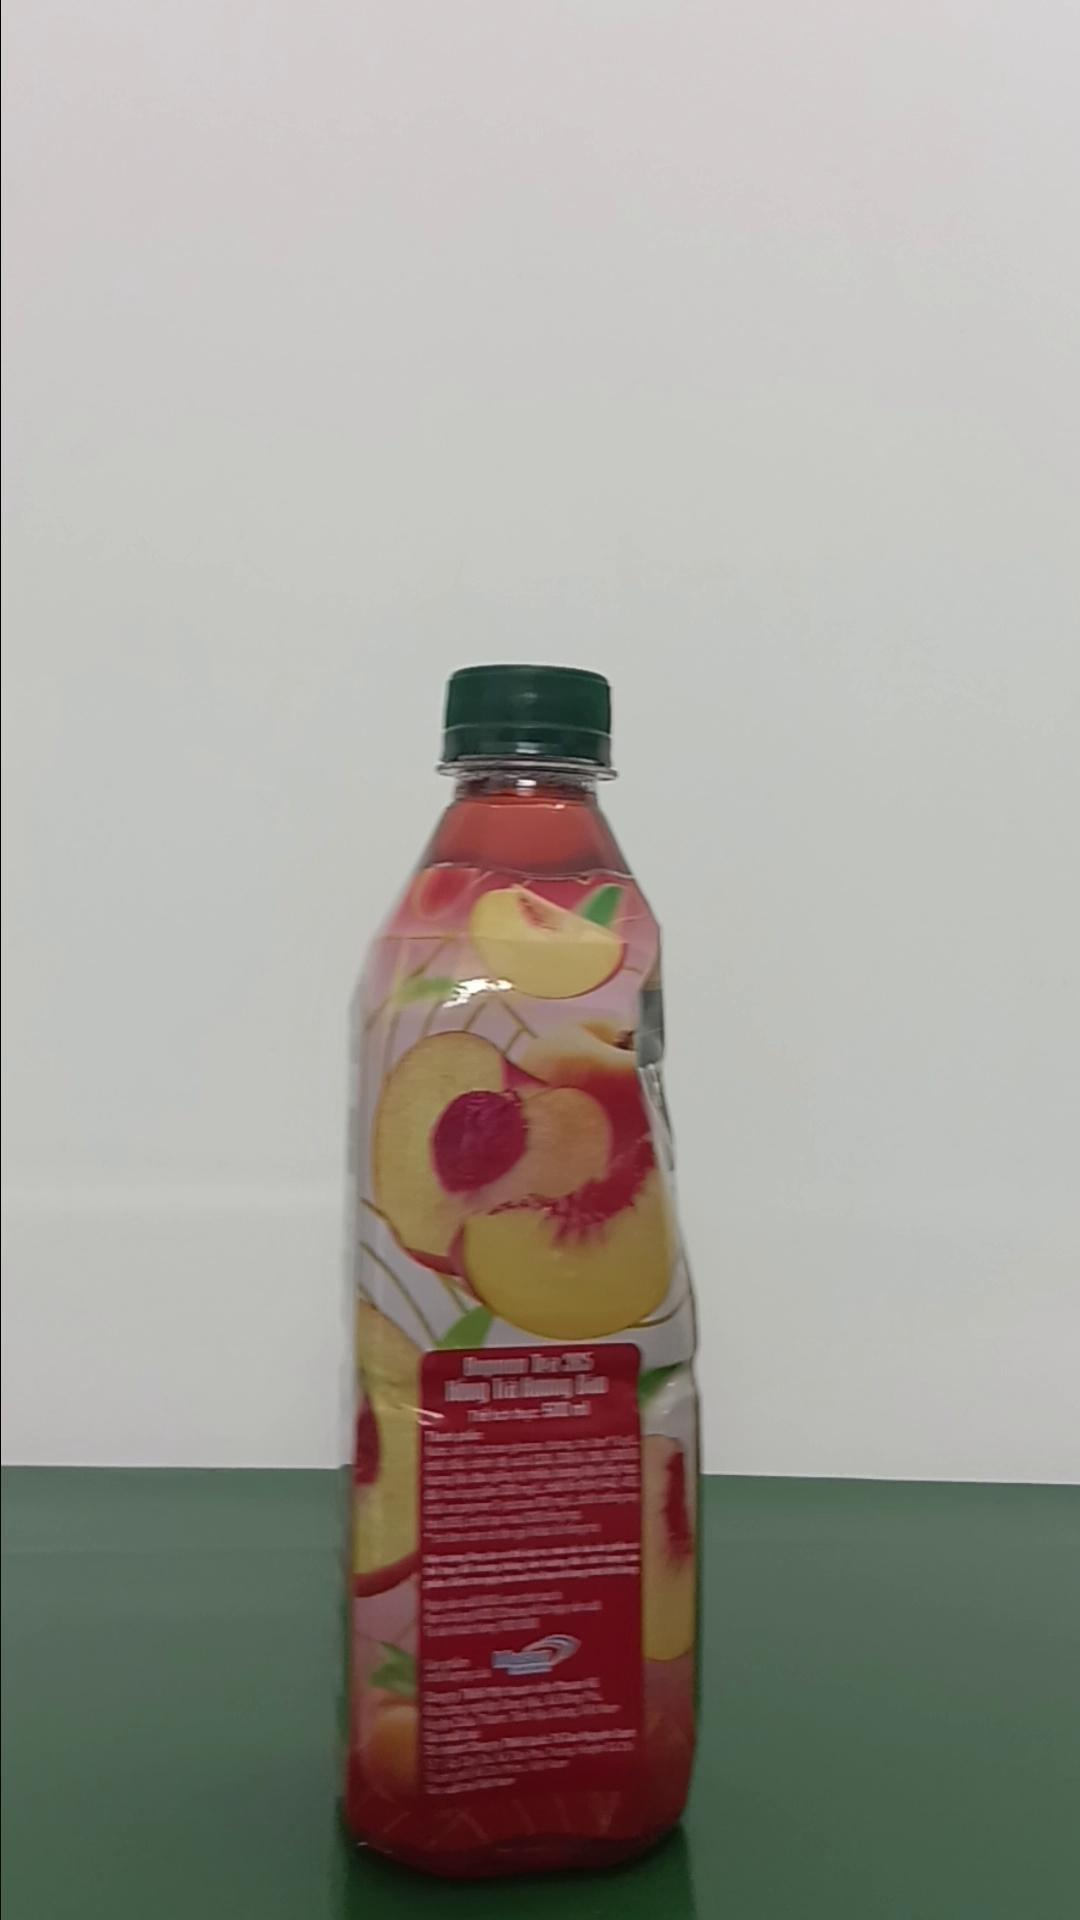loi meo sp: (342, 661, 704, 1879)
